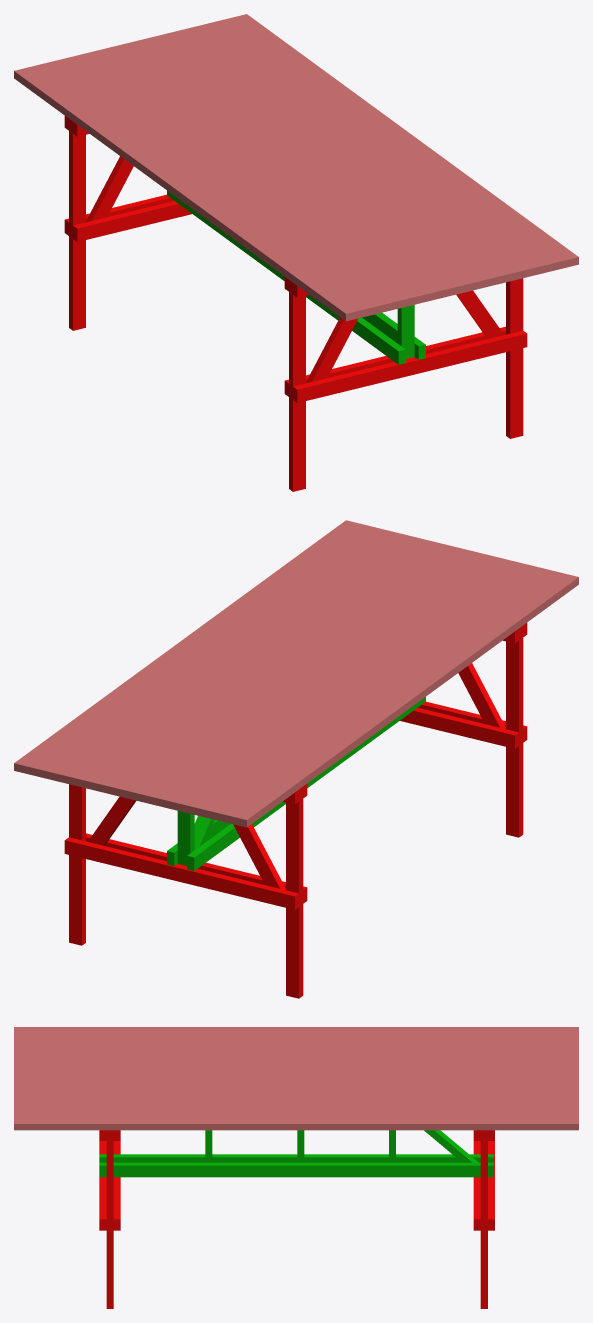
Rendered from result.glb.
3 renders of one model, top to bottom at view 1: azimuth 30°, elevation 25°; view 2: azimuth 150°, elevation 25°; view 3: azimuth 270°, elevation 25°, orthographic. The views are drawn at different scales.
Parts seen in each view (by area): view 1: a89c9b2f-7bba-4057-a143-1d8ab2da9a47__Box, f5495787-ada1-4b45-bfd6-afd2c8bdbeda__undefined, 0d96c1fd-bbb6-4379-ad00-08572f0901af__undefined, 7be0873a-83f5-4abe-bac4-f18e7bb17d0c__undefined, 4ab3e4f0-c657-4a1a-bdaf-cc6b2cceeaaf__undefined, d02ef1d0-0578-4c3b-bfe4-c4ec32dd2381__undefined, 7594d6f1-495d-4a4a-98d5-15e7ad6ae332__undefined, beee249a-71db-4efb-89b1-33606cf75162__undefined, ec420bf7-49fc-468a-9d9a-7545e6613217__undefined, a99e7af4-2305-4798-bb78-a5424dd0c17d__undefined, b9e40105-243c-41f2-8857-96374b1fd02d__undefined, 3a0ef755-258a-4daf-9621-e3e26842b530__undefined (+19 smaller); view 2: a89c9b2f-7bba-4057-a143-1d8ab2da9a47__Box, 0d96c1fd-bbb6-4379-ad00-08572f0901af__undefined, a99e7af4-2305-4798-bb78-a5424dd0c17d__undefined, f5495787-ada1-4b45-bfd6-afd2c8bdbeda__undefined, beee249a-71db-4efb-89b1-33606cf75162__undefined, b9e40105-243c-41f2-8857-96374b1fd02d__undefined, d02ef1d0-0578-4c3b-bfe4-c4ec32dd2381__undefined, ec420bf7-49fc-468a-9d9a-7545e6613217__undefined, 7be0873a-83f5-4abe-bac4-f18e7bb17d0c__undefined, 3a0ef755-258a-4daf-9621-e3e26842b530__undefined, 4ab3e4f0-c657-4a1a-bdaf-cc6b2cceeaaf__undefined, 7594d6f1-495d-4a4a-98d5-15e7ad6ae332__undefined (+18 smaller); view 3: 9ea96141-0298-4033-9c6b-0198b5fc7370__undefined, dd42adec-05c4-4888-b272-c4eb529b60f4__strutH, a89c9b2f-7bba-4057-a143-1d8ab2da9a47__Box, 4d2001f4-0280-434b-b499-1873a24323e5__undefined, b2faaea1-9177-4e48-b2e0-032a90df9c61__undefined, 67f49f60-17e5-4346-bb19-da4ff1a16e7d__undefined, 4ab3e4f0-c657-4a1a-bdaf-cc6b2cceeaaf__undefined, d02ef1d0-0578-4c3b-bfe4-c4ec32dd2381__undefined, ec420bf7-49fc-468a-9d9a-7545e6613217__undefined, 0d96c1fd-bbb6-4379-ad00-08572f0901af__undefined, a99e7af4-2305-4798-bb78-a5424dd0c17d__undefined, 7594d6f1-495d-4a4a-98d5-15e7ad6ae332__undefined (+15 smaller).
Boxes of the visible parts, x1,y1,x2,y2 form: a89c9b2f-7bba-4057-a143-1d8ab2da9a47__Box: (14, 67, 358, 321); f5495787-ada1-4b45-bfd6-afd2c8bdbeda__undefined: (144, 36, 488, 289); 0d96c1fd-bbb6-4379-ad00-08572f0901af__undefined: (105, 45, 449, 298); 7be0873a-83f5-4abe-bac4-f18e7bb17d0c__undefined: (182, 26, 527, 280); 4ab3e4f0-c657-4a1a-bdaf-cc6b2cceeaaf__undefined: (66, 55, 410, 308); d02ef1d0-0578-4c3b-bfe4-c4ec32dd2381__undefined: (79, 52, 423, 305); 7594d6f1-495d-4a4a-98d5-15e7ad6ae332__undefined: (131, 39, 475, 292); beee249a-71db-4efb-89b1-33606cf75162__undefined: (156, 33, 501, 286); ec420bf7-49fc-468a-9d9a-7545e6613217__undefined: (92, 49, 436, 302); a99e7af4-2305-4798-bb78-a5424dd0c17d__undefined: (118, 42, 462, 295); b9e40105-243c-41f2-8857-96374b1fd02d__undefined: (170, 30, 514, 283); 3a0ef755-258a-4daf-9621-e3e26842b530__undefined: (195, 23, 540, 276); a89c9b2f-7bba-4057-a143-1d8ab2da9a47__Box: (234, 574, 578, 827); 0d96c1fd-bbb6-4379-ad00-08572f0901af__undefined: (143, 552, 487, 805); a99e7af4-2305-4798-bb78-a5424dd0c17d__undefined: (130, 548, 474, 802); f5495787-ada1-4b45-bfd6-afd2c8bdbeda__undefined: (104, 542, 449, 795); beee249a-71db-4efb-89b1-33606cf75162__undefined: (91, 539, 435, 792); b9e40105-243c-41f2-8857-96374b1fd02d__undefined: (78, 536, 423, 789); d02ef1d0-0578-4c3b-bfe4-c4ec32dd2381__undefined: (169, 558, 513, 811); ec420bf7-49fc-468a-9d9a-7545e6613217__undefined: (156, 555, 500, 808); 7be0873a-83f5-4abe-bac4-f18e7bb17d0c__undefined: (65, 533, 410, 786); 3a0ef755-258a-4daf-9621-e3e26842b530__undefined: (52, 530, 397, 783); 4ab3e4f0-c657-4a1a-bdaf-cc6b2cceeaaf__undefined: (182, 561, 526, 814); 7594d6f1-495d-4a4a-98d5-15e7ad6ae332__undefined: (117, 545, 461, 798); 9ea96141-0298-4033-9c6b-0198b5fc7370__undefined: (14, 1118, 578, 1130); dd42adec-05c4-4888-b272-c4eb529b60f4__strutH: (99, 1162, 493, 1177); a89c9b2f-7bba-4057-a143-1d8ab2da9a47__Box: (14, 1027, 578, 1032); 4d2001f4-0280-434b-b499-1873a24323e5__undefined: (14, 1032, 578, 1037); b2faaea1-9177-4e48-b2e0-032a90df9c61__undefined: (14, 1038, 578, 1043); 67f49f60-17e5-4346-bb19-da4ff1a16e7d__undefined: (14, 1043, 578, 1048); 4ab3e4f0-c657-4a1a-bdaf-cc6b2cceeaaf__undefined: (14, 1048, 578, 1053); d02ef1d0-0578-4c3b-bfe4-c4ec32dd2381__undefined: (14, 1054, 578, 1059); ec420bf7-49fc-468a-9d9a-7545e6613217__undefined: (14, 1059, 578, 1064); 0d96c1fd-bbb6-4379-ad00-08572f0901af__undefined: (14, 1064, 578, 1069); a99e7af4-2305-4798-bb78-a5424dd0c17d__undefined: (14, 1070, 578, 1075); 7594d6f1-495d-4a4a-98d5-15e7ad6ae332__undefined: (14, 1075, 578, 1080).
Size of the model in its own units: 810 by 725 by 2000.
